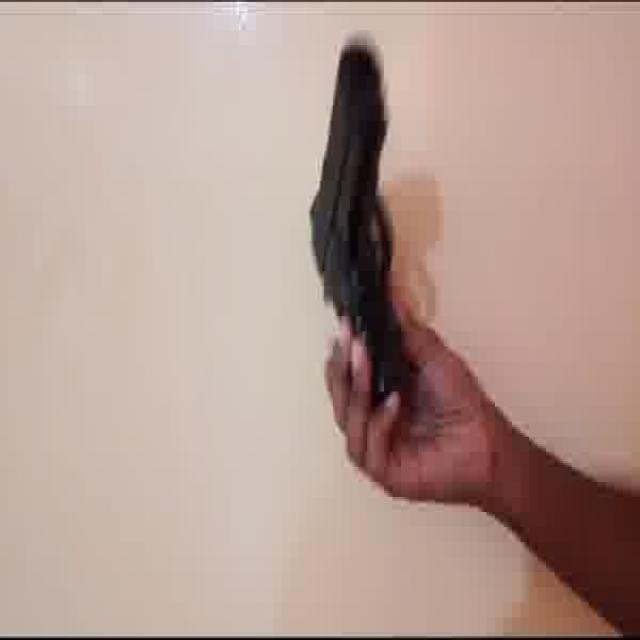weapon: (310, 38, 412, 410)
